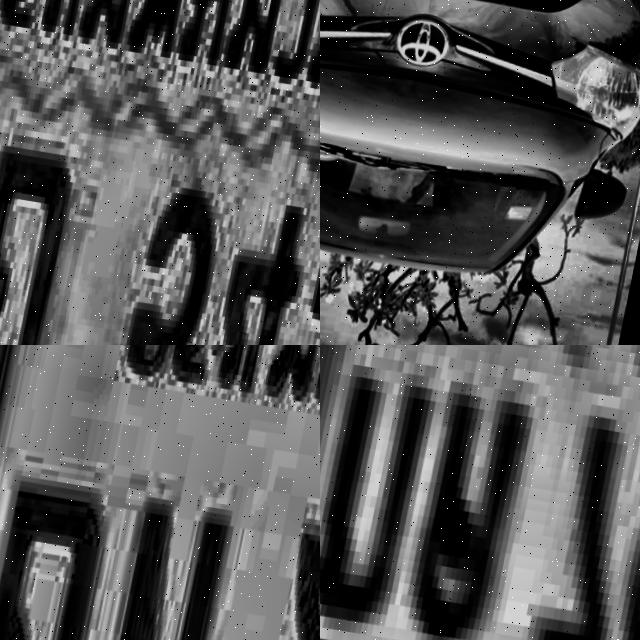license-plate: (0, 0, 320, 345), (0, 345, 320, 640), (320, 345, 640, 640)
